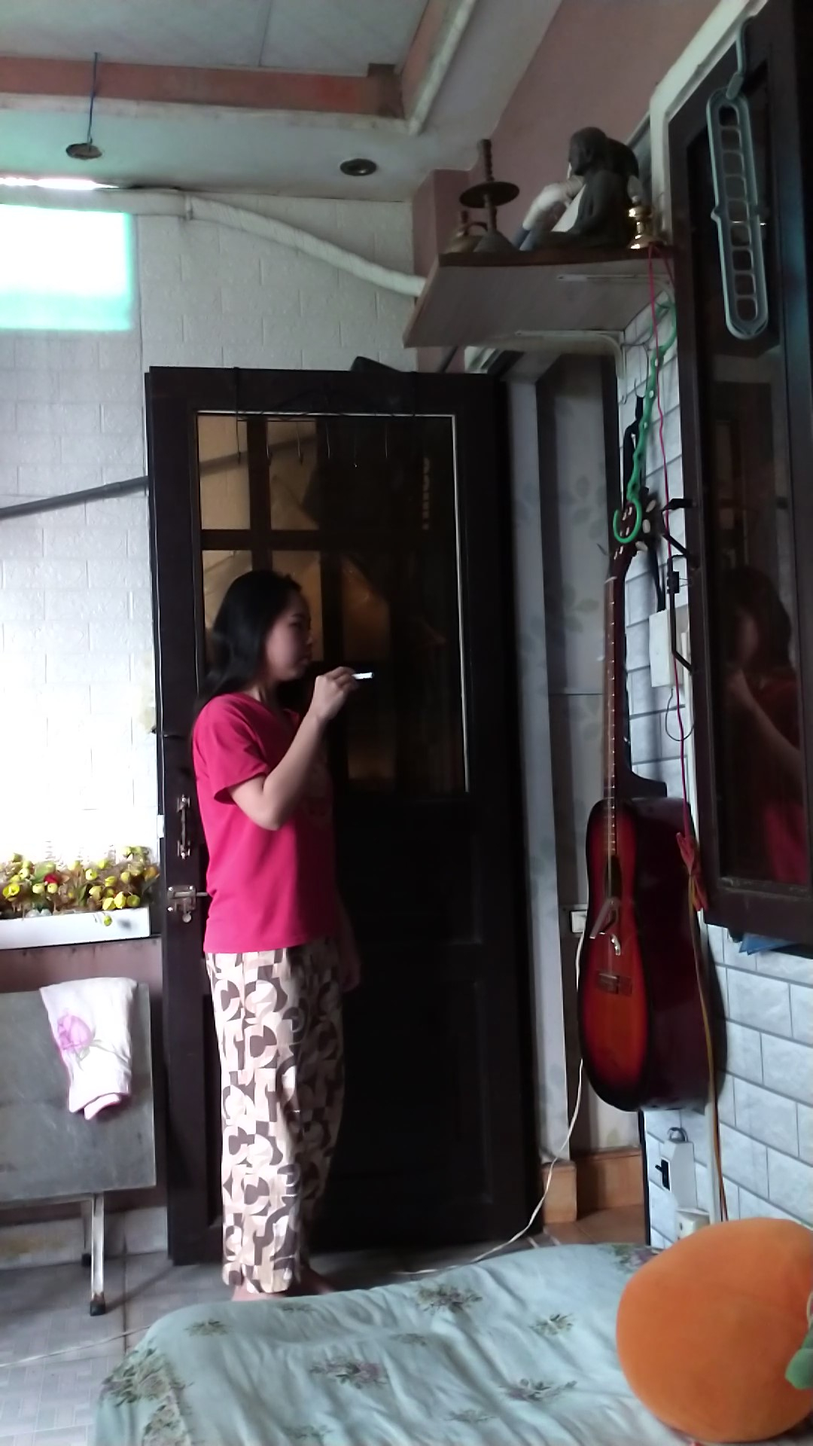cigarette: (352, 667, 380, 684)
person: (194, 554, 367, 1344)
